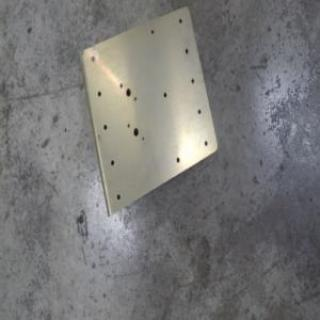MetalSheettrack_idkeyframe: (76, 3, 218, 219)
